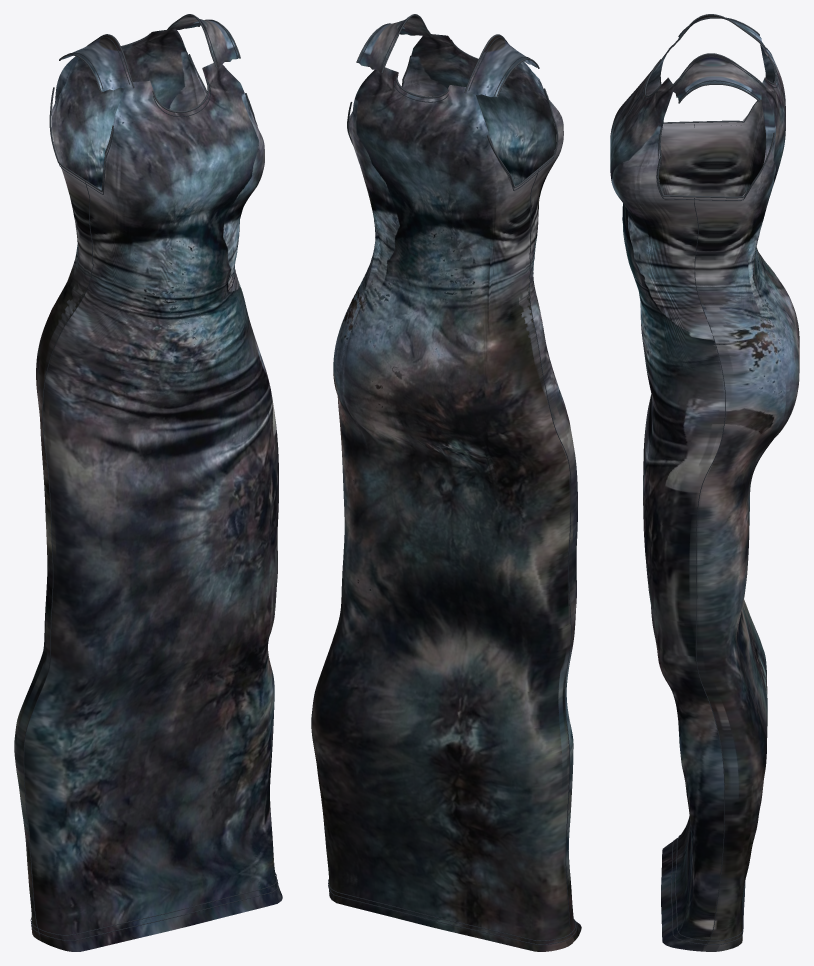
File: vestido-largo-estampado_M.glb
3 views of the same model, side by side, from view 1: azimuth 30°, elevation 25°; view 2: azimuth 150°, elevation 25°; view 3: azimuth 270°, elevation 25° (orthographic). The views are drawn at different scales.
Parts seen in each view (by area): view 1: vestido-frente, vestido-espalda, tirante (×2), pespunte; view 2: vestido-espalda, vestido-frente, tirante (×2), pespunte; view 3: vestido-frente, vestido-espalda, tirante, pespunte, ribete.
Boxes of the visible parts, box(x1,y1,x2,y2) form: vestido-frente: box(24, 61, 282, 951); vestido-espalda: box(14, 28, 206, 940); tirante (×2): box(62, 15, 239, 91); pespunte: box(23, 182, 93, 935); vestido-espalda: box(311, 67, 574, 951); vestido-frente: box(402, 34, 581, 940); tirante (×2): box(357, 15, 537, 96); pespunte: box(529, 171, 573, 937); vestido-frente: box(610, 45, 725, 951); vestido-espalda: box(694, 44, 799, 951); tirante: box(673, 54, 766, 101); pespunte: box(694, 198, 725, 947); ribete: box(657, 128, 774, 198).
Bounding box in the file's own units: 0.4154 × 1.42 × 0.282.
Materials: 3 (1 with a texture image).
